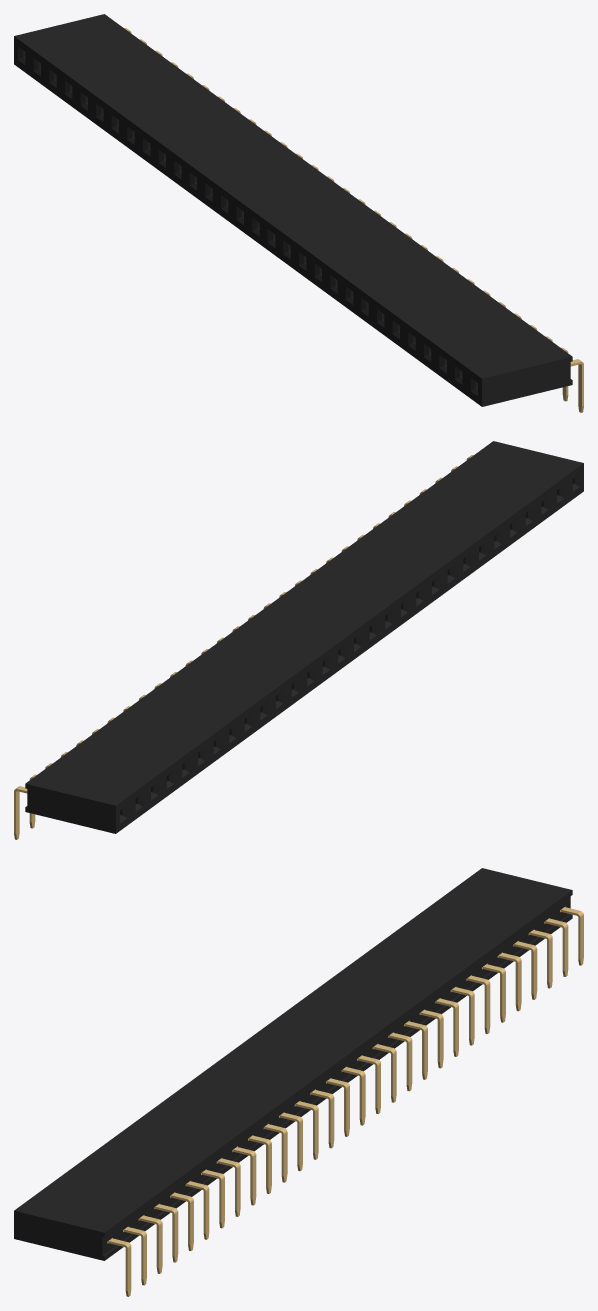
The model's file is kc-pinsocket_1x30_p2.54mm_horizontal.glb.
3 renders of one model, top to bottom at view 1: azimuth 30°, elevation 25°; view 2: azimuth 150°, elevation 25°; view 3: azimuth 330°, elevation 25°, orthographic.
Visible parts, largest first — view 1: 0_0_0_0, 0.75_0.5_0.25_0.9; view 2: 0_0_0_0, 0.75_0.5_0.25_0.9; view 3: 0_0_0_0, 0.75_0.5_0.25_0.9.
Part boxes in pixels (x1,y1,x2,y2): 0_0_0_0: (14,14,572,406); 0.75_0.5_0.25_0.9: (124,28,583,412); 0_0_0_0: (25,441,583,833); 0.75_0.5_0.25_0.9: (14,455,473,839); 0_0_0_0: (14,868,572,1260); 0.75_0.5_0.25_0.9: (107,906,583,1296).
Size of the model in its own units: 1.01 by 0.5839 by 7.62.
